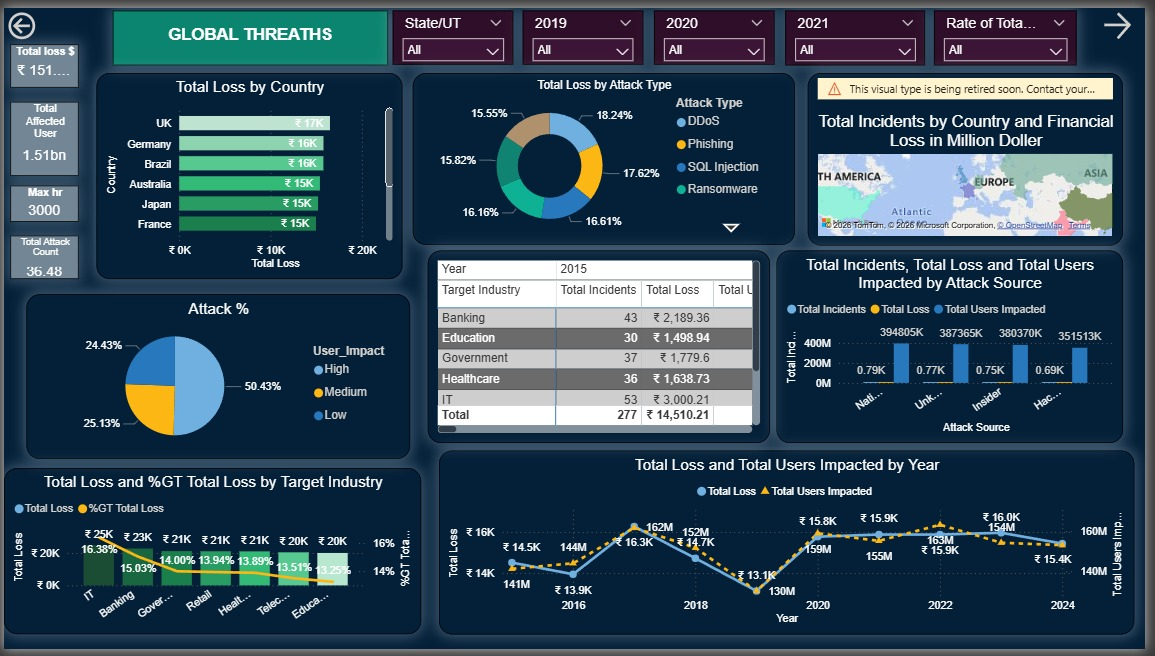

This screenshot's page, from the dashboard's own definition file:
{"tool":"powerbi","page":{"name":"EXPLORE GLOBAL THREATHS","canvas":[1280,720],"ordinal":1},"visuals":[{"type":"textbox","box":[121.4,2.9,308.6,61.4],"z":0},{"type":"slicer","fields":{"Values":["CIIReport.State/UT"]},"box":[435.5,2.7,135.5,60.9],"z":1000},{"type":"slicer","fields":{"Values":["CIIReport.2019"]},"box":[581.7,2.4,135,61],"z":2000},{"type":"slicer","fields":{"Values":["CIIReport.2020"]},"box":[728.7,2.4,135,61],"z":3000},{"type":"slicer","fields":{"Values":["CIIReport.2021"]},"box":[876.6,2.6,157.1,61.4],"z":4000},{"type":"slicer","fields":{"Values":["CIIReport.Rate of Total Cyber Crimes (2021)"]},"box":[1043.7,2.6,160,61.4],"z":5000},{"type":"card","title":"Total loss $","fields":{"Values":["Global_Cybersecurity_Threats_2015-2024 xlsx - Global_Cybersecurity_Threats_20.Total Loss"]},"box":[7.1,40,77.1,48.6],"z":6000},{"type":"card","title":"Total Affected User","fields":{"Values":["Global_Cybersecurity_Threats_2015-2024 xlsx - Global_Cybersecurity_Threats_20.Total Users Impacted"]},"box":[7.1,105.7,77.1,82.9],"z":7000},{"type":"card","title":"Max hr","fields":{"Values":["Global_Cybersecurity_Threats_2015-2024 xlsx - Global_Cybersecurity_Threats_20.Total Incidents"]},"box":[7,199,77,41],"z":8000},{"type":"card","title":"Total Attack Count","fields":{"Values":["Global_Cybersecurity_Threats_2015-2024 xlsx - Global_Cybersecurity_Threats_20.Avg Resolution Time"]},"box":[7.1,255.7,77.1,48.6],"z":9000},{"type":"clusteredBarChart","fields":{"Category":["Global_Cybersecurity_Threats_2015-2024 xlsx - Global_Cybersecurity_Threats_20.Country"],"Y":["Global_Cybersecurity_Threats_2015-2024 xlsx - Global_Cybersecurity_Threats_20.Total Loss"]},"box":[103.8,72.9,343.6,231.4],"z":10000},{"type":"donutChart","fields":{"Category":["Global_Cybersecurity_Threats_2015-2024 xlsx - Global_Cybersecurity_Threats_20.Attack Type"],"Y":["Global_Cybersecurity_Threats_2015-2024 xlsx - Global_Cybersecurity_Threats_20.Total Loss"]},"box":[458.6,72.9,428.6,192.9],"z":11000},{"type":"filledMap","fields":{"Category":["Global_Cybersecurity_Threats_2015-2024 xlsx - Global_Cybersecurity_Threats_20.Country"],"Series":["Global_Cybersecurity_Threats_2015-2024 xlsx - Global_Cybersecurity_Threats_20.Financial Loss in Million  Doller"]},"box":[901.7,72.9,353.4,193.5],"z":12000},{"type":"lineChart","fields":{"Category":["Global_Cybersecurity_Threats_2015-2024 xlsx - Global_Cybersecurity_Threats_20.Year"],"Y":["Global_Cybersecurity_Threats_2015-2024 xlsx - Global_Cybersecurity_Threats_20.Total Loss"],"Y2":["Global_Cybersecurity_Threats_2015-2024 xlsx - Global_Cybersecurity_Threats_20.Total Users Impacted"]},"box":[488,496.4,779.7,206.1],"z":13000},{"type":"clusteredColumnChart","fields":{"Category":["Global_Cybersecurity_Threats_2015-2024 xlsx - Global_Cybersecurity_Threats_20.Attack Source"],"Y":["Global_Cybersecurity_Threats_2015-2024 xlsx - Global_Cybersecurity_Threats_20.Total Incidents","Global_Cybersecurity_Threats_2015-2024 xlsx - Global_Cybersecurity_Threats_20.Total Loss","Global_Cybersecurity_Threats_2015-2024 xlsx - Global_Cybersecurity_Threats_20.Total Users Impacted"]},"box":[866.6,272,388.4,216],"z":14000},{"type":"pivotTable","fields":{"Columns":["Global_Cybersecurity_Threats_2015-2024 xlsx - Global_Cybersecurity_Threats_20.Year"],"Rows":["Global_Cybersecurity_Threats_2015-2024 xlsx - Global_Cybersecurity_Threats_20.Target Industry"],"Values":["Global_Cybersecurity_Threats_2015-2024 xlsx - Global_Cybersecurity_Threats_20.Total Incidents","Global_Cybersecurity_Threats_2015-2024 xlsx - Global_Cybersecurity_Threats_20.Total Loss","Global_Cybersecurity_Threats_2015-2024 xlsx - Global_Cybersecurity_Threats_20.Total Users Impacted"]},"box":[475.4,272,384.2,216],"z":15000},{"type":"pieChart","title":"Attack %","fields":{"Category":["Global_Cybersecurity_Threats_2015-2024 xlsx - Global_Cybersecurity_Threats_20.User_Impact"],"Y":["Global_Cybersecurity_Threats_2015-2024 xlsx - Global_Cybersecurity_Threats_20.Total Incidents"]},"box":[25.2,321.1,430.5,185.1],"z":16000},{"type":"lineStackedColumnComboChart","fields":{"Category":["Global_Cybersecurity_Threats_2015-2024 xlsx - Global_Cybersecurity_Threats_20.Target Industry"],"Y":["Global_Cybersecurity_Threats_2015-2024 xlsx - Global_Cybersecurity_Threats_20.Total Loss"],"Y2":["Divide(Global_Cybersecurity_Threats_2015-2024 xlsx - Global_Cybersecurity_Threats_20.Total Loss, ScopedEval(Global_Cyber"]},"box":[0,516,468.4,186.5],"z":17000},{"type":"actionButton","box":[1228.6,0,51.4,40],"z":18000},{"type":"actionButton","box":[0,0,45.7,40],"z":19000}]}

Visuals, with their boxes in screenshot pixels (x1, y1, x2, y2), scaled from the page's 1280x720 canvas onto the 1155x656 screenshot:
textbox: (110,3,388,59)
slicer - CIIReport.State/UT: (393,2,515,58)
slicer - CIIReport.2019: (525,2,647,58)
slicer - CIIReport.2020: (658,2,779,58)
slicer - CIIReport.2021: (791,2,933,58)
slicer - CIIReport.Rate of Total Cyber Crimes (2021): (942,2,1086,58)
"Total loss $" card: (6,36,76,81)
"Total Affected User" card: (6,96,76,172)
"Max hr" card: (6,181,76,219)
"Total Attack Count" card: (6,233,76,277)
clusteredBarChart - Global_Cybersecurity_Threats_2015-2024 xlsx - Global_Cybersecurity_Threats_20.Country x Global_Cybersecurity_Threats_2015-2024 xlsx - Global_Cybersecurity_Threats_20.Total Loss: (94,66,404,277)
donutChart - Global_Cybersecurity_Threats_2015-2024 xlsx - Global_Cybersecurity_Threats_20.Attack Type x Global_Cybersecurity_Threats_2015-2024 xlsx - Global_Cybersecurity_Threats_20.Total Loss: (414,66,801,242)
filledMap - Global_Cybersecurity_Threats_2015-2024 xlsx - Global_Cybersecurity_Threats_20.Country x Global_Cybersecurity_Threats_2015-2024 xlsx - Global_Cybersecurity_Threats_20.Financial Loss in Million  Doller: (814,66,1133,243)
lineChart - Global_Cybersecurity_Threats_2015-2024 xlsx - Global_Cybersecurity_Threats_20.Year x Global_Cybersecurity_Threats_2015-2024 xlsx - Global_Cybersecurity_Threats_20.Total Loss: (440,452,1144,640)
clusteredColumnChart - Global_Cybersecurity_Threats_2015-2024 xlsx - Global_Cybersecurity_Threats_20.Attack Source x Global_Cybersecurity_Threats_2015-2024 xlsx - Global_Cybersecurity_Threats_20.Total Incidents: (782,248,1132,445)
pivotTable - Global_Cybersecurity_Threats_2015-2024 xlsx - Global_Cybersecurity_Threats_20.Year x Global_Cybersecurity_Threats_2015-2024 xlsx - Global_Cybersecurity_Threats_20.Target Industry: (429,248,776,445)
"Attack %" pieChart: (23,293,411,461)
lineStackedColumnComboChart - Global_Cybersecurity_Threats_2015-2024 xlsx - Global_Cybersecurity_Threats_20.Target Industry x Global_Cybersecurity_Threats_2015-2024 xlsx - Global_Cybersecurity_Threats_20.Total Loss: (0,470,423,640)
actionButton: (1109,0,1154,36)
actionButton: (0,0,41,36)
